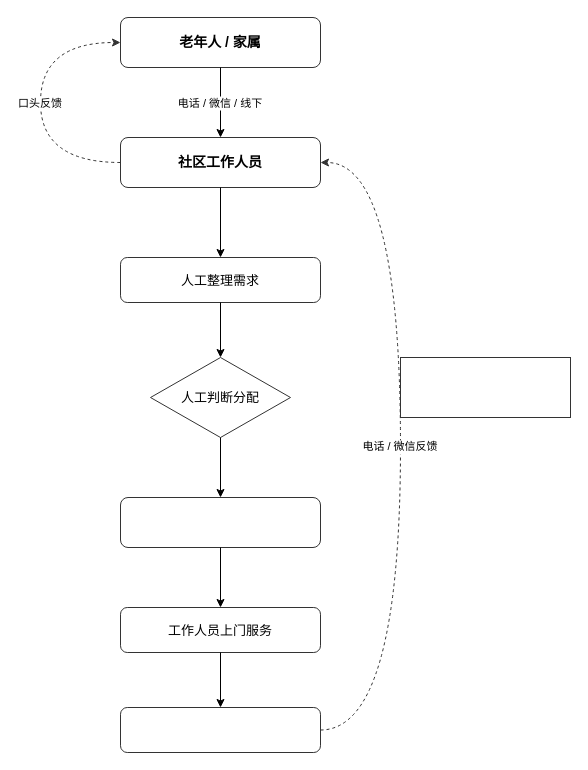
This 588x770 diagram has some shape labels left out. Here are the shapes that lost their labels. From the top down, the centre of each, then its label:
At pixel 485 387: "⚠ 信息传递效率低 ⚠ 无法追踪进度 ⚠ 分配依赖人工经验".
At pixel 220 522: "服务站点".
At pixel 220 729: "服务完成".
